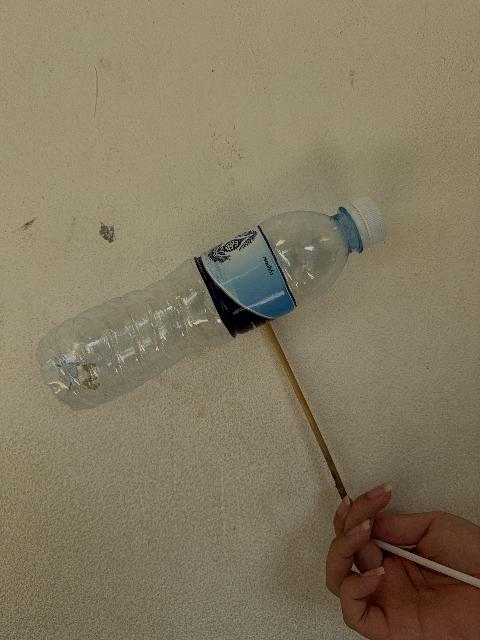bottle: (36, 198, 384, 409)
